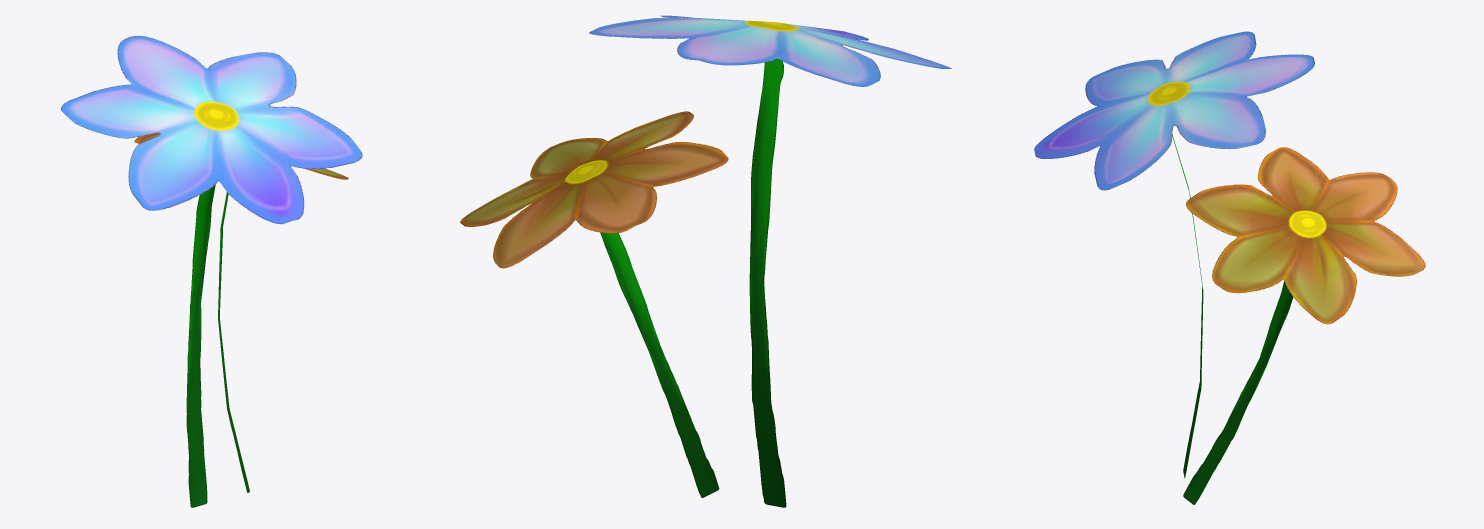
Rendered from 28_Flor_Doble.fbx.
The picture shows the model from 3 angles, left to right: view 1: azimuth 30°, elevation 25°; view 2: azimuth 150°, elevation 25°; view 3: azimuth 270°, elevation 25°; orthographic projection. The views are drawn at different scales.
Parts seen in each view (by area): view 1: 28_Flor_Doble; view 2: 28_Flor_Doble; view 3: 28_Flor_Doble.
Part boxes in pixels (bbox=[...]): 28_Flor_Doble: bbox=[61, 35, 362, 507]; 28_Flor_Doble: bbox=[460, 15, 951, 507]; 28_Flor_Doble: bbox=[1034, 31, 1425, 504].
Size of the model in its own units: 31.92 by 37.99 by 36.35.
